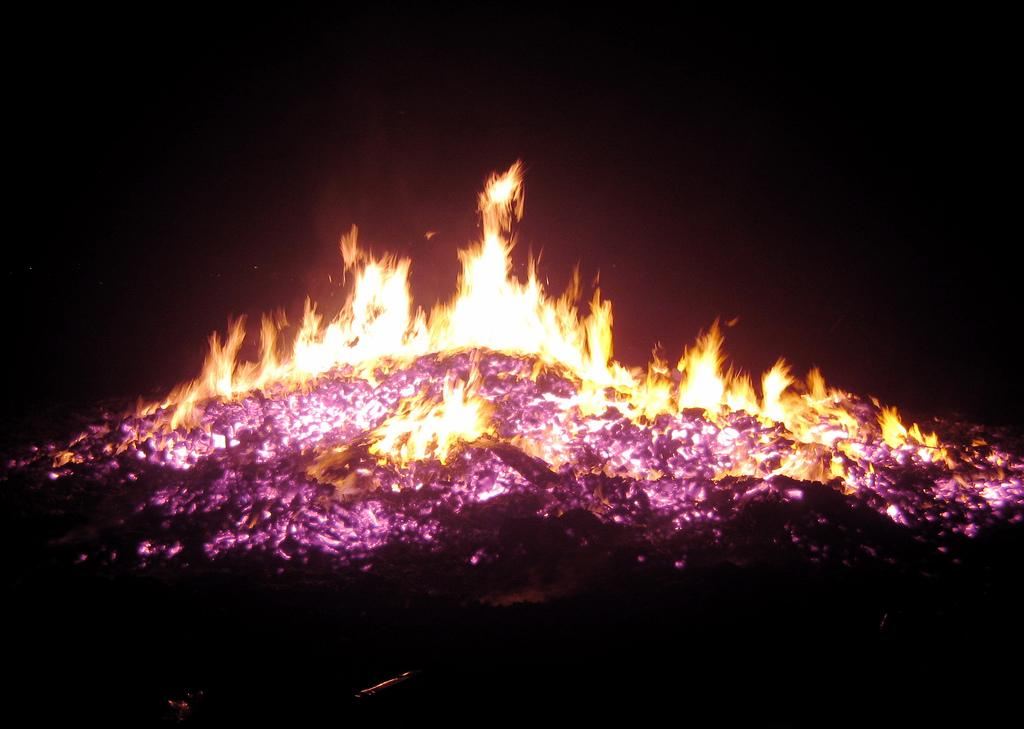fire: (214, 324, 326, 390), (460, 256, 538, 344), (346, 258, 414, 358), (540, 302, 606, 370), (682, 332, 722, 422)
